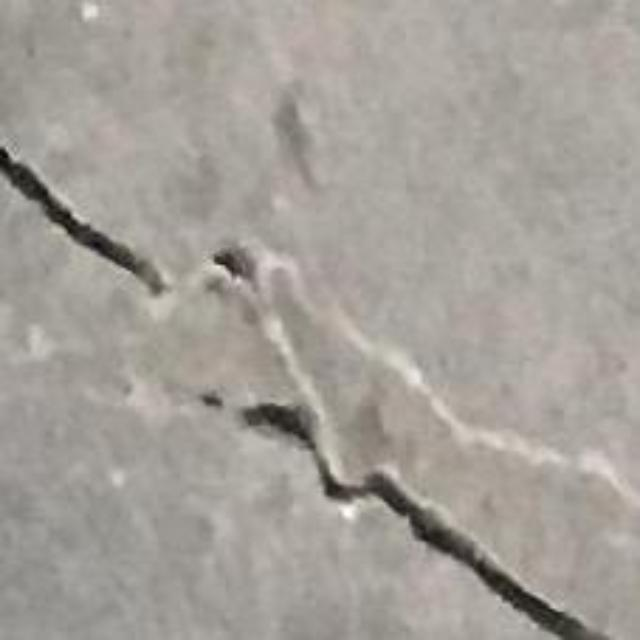crack: (201, 390, 611, 639)
